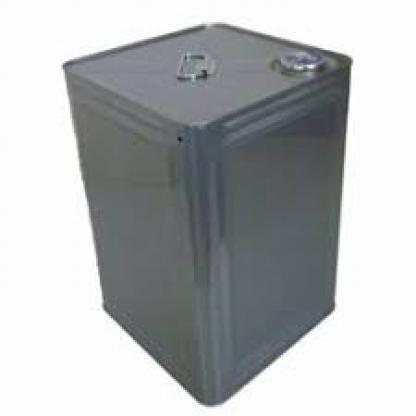METAL: (59, 22, 351, 398)
